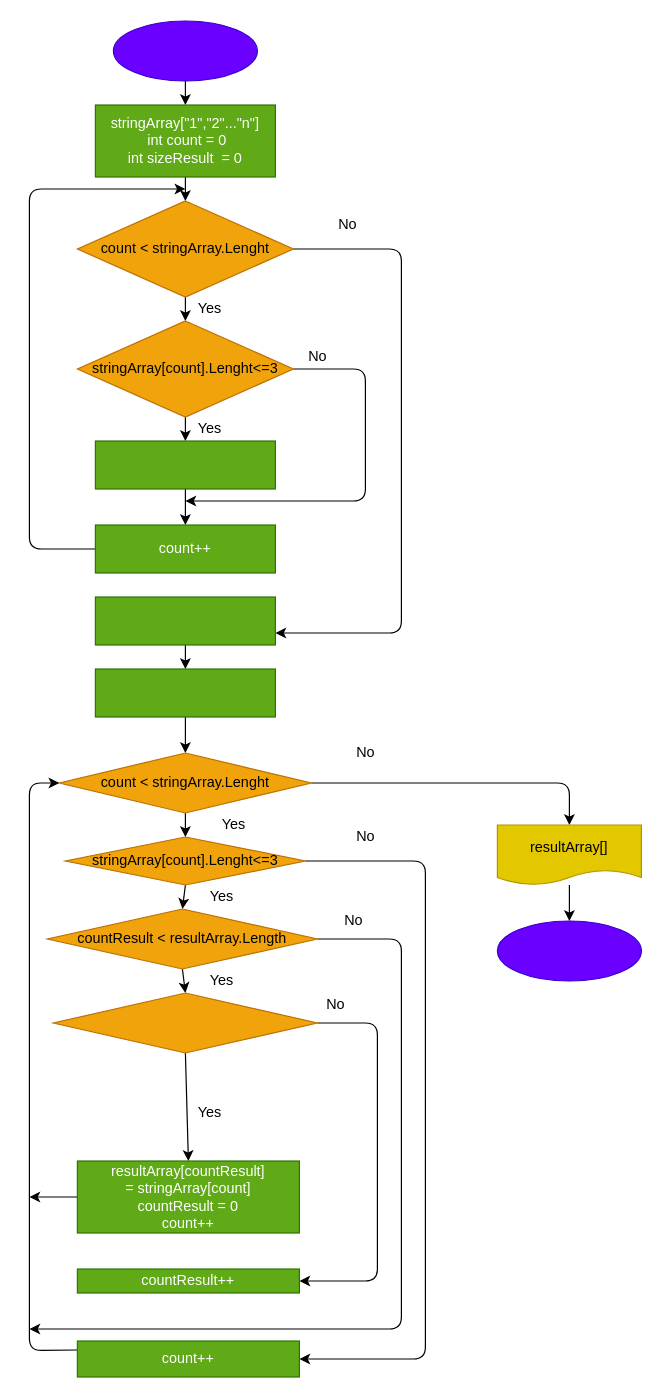
The diagram is 662 pixels wide and 1398 high, and some of its shapes have lost their labels. Here are the shapes that lost their labels. From the top down, the centre of each, then its label:
At pixel 184 50: "START".
At pixel 184 464: "sizeResult++".
At pixel 184 620: "string[] result = new string[count]".
At pixel 184 692: "count = 0 int countResult = 0".
At pixel 568 950: "END".
At pixel 184 1022: "resultArray[countResult] == null".
